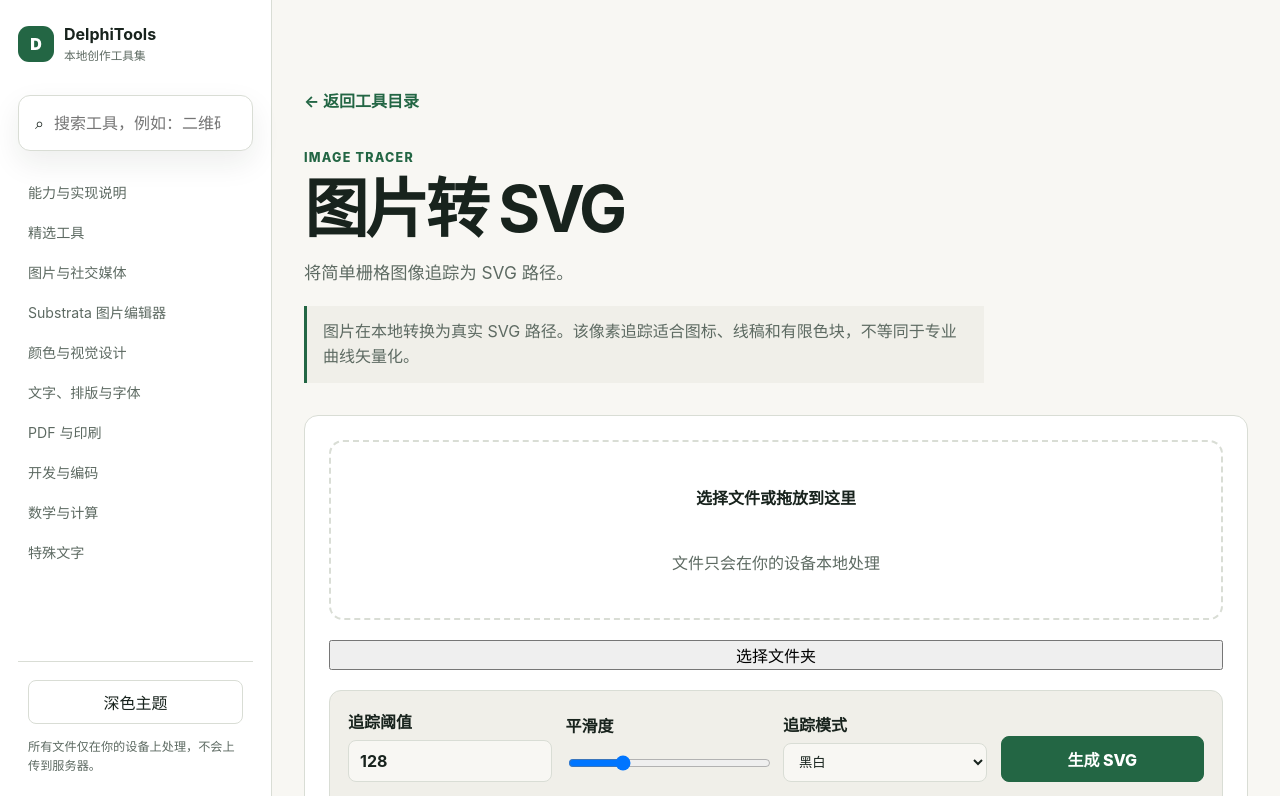
Test case: 六条高级媒体路由 › 彩色追踪隐藏无效阈值，只显示最大颜色数
This screenshot has width=1280, height=796.
Check: the number field labelled "追踪阈值" is shown, box [348,740,552,782]
Select "有限颜色" in the dropdown labelled "追踪模式": (885, 762) [783,743,986,782]
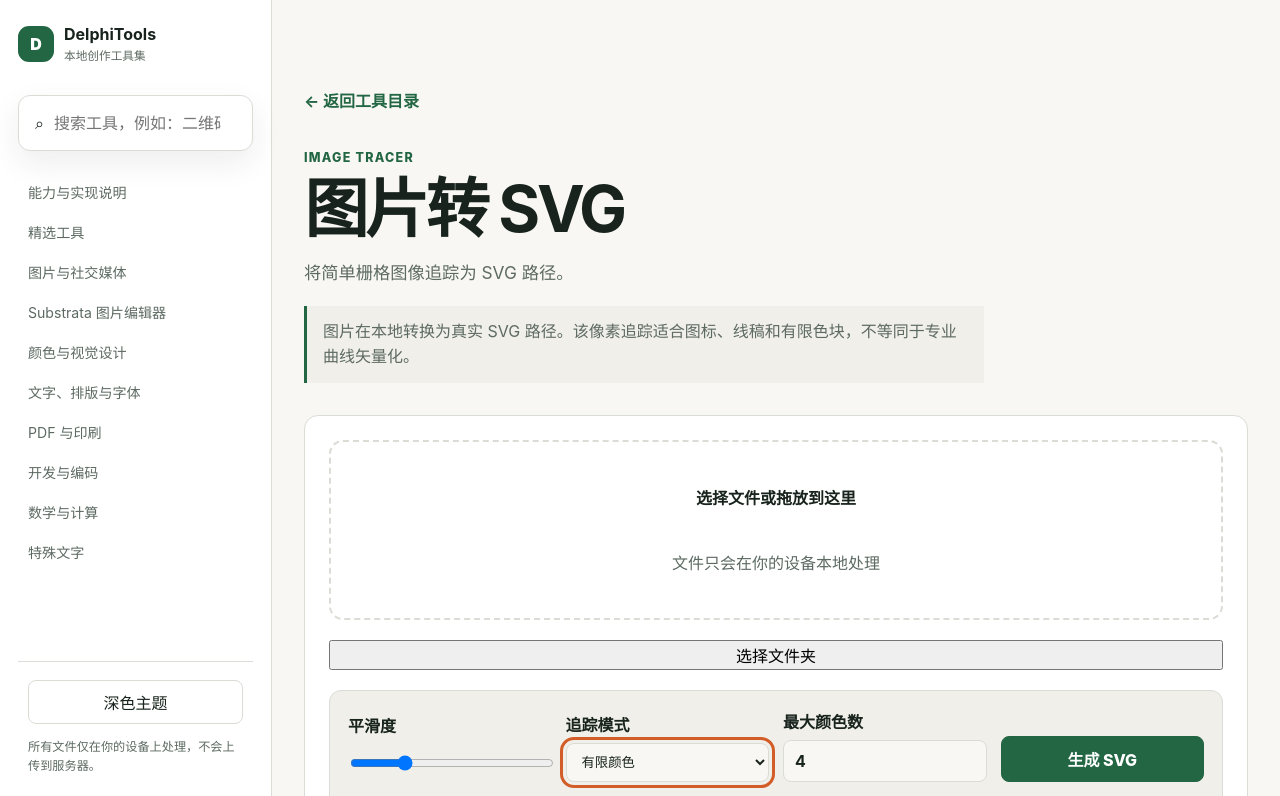
Check: the label labelled "追踪阈值" is gone
Check: the number field labelled "最大颜色数" is shown, box [783,740,986,782]
